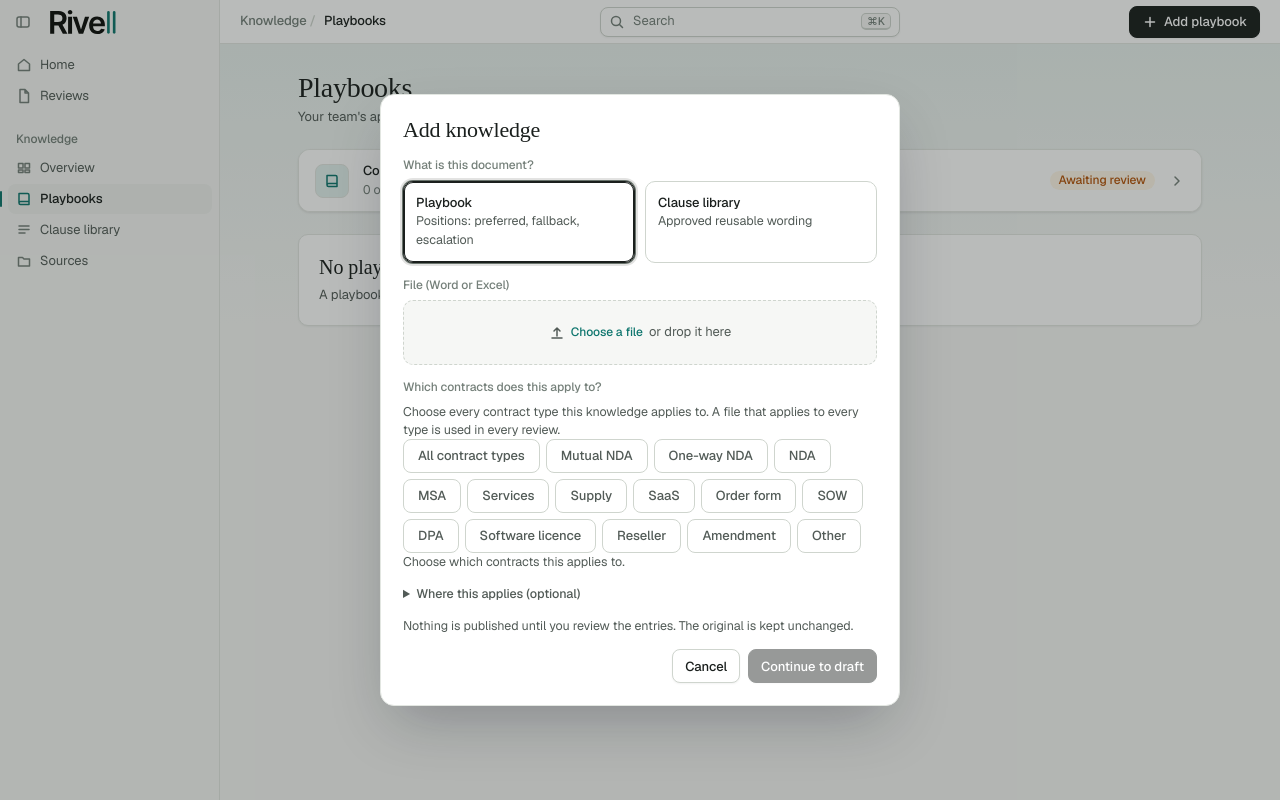
Scenario: Add knowledge › offers the type the page is about, and still lets the reviewer change it
The width and height of the screenshot is (1280, 800).
Check: the radio button labelled "Playbook Positions: preferred, fallback, escalation" is checked, box [403, 180, 635, 263]
Click the radio button labelled "Clause library Approved reusable wording".
click(761, 222)  # box [645, 180, 877, 263]
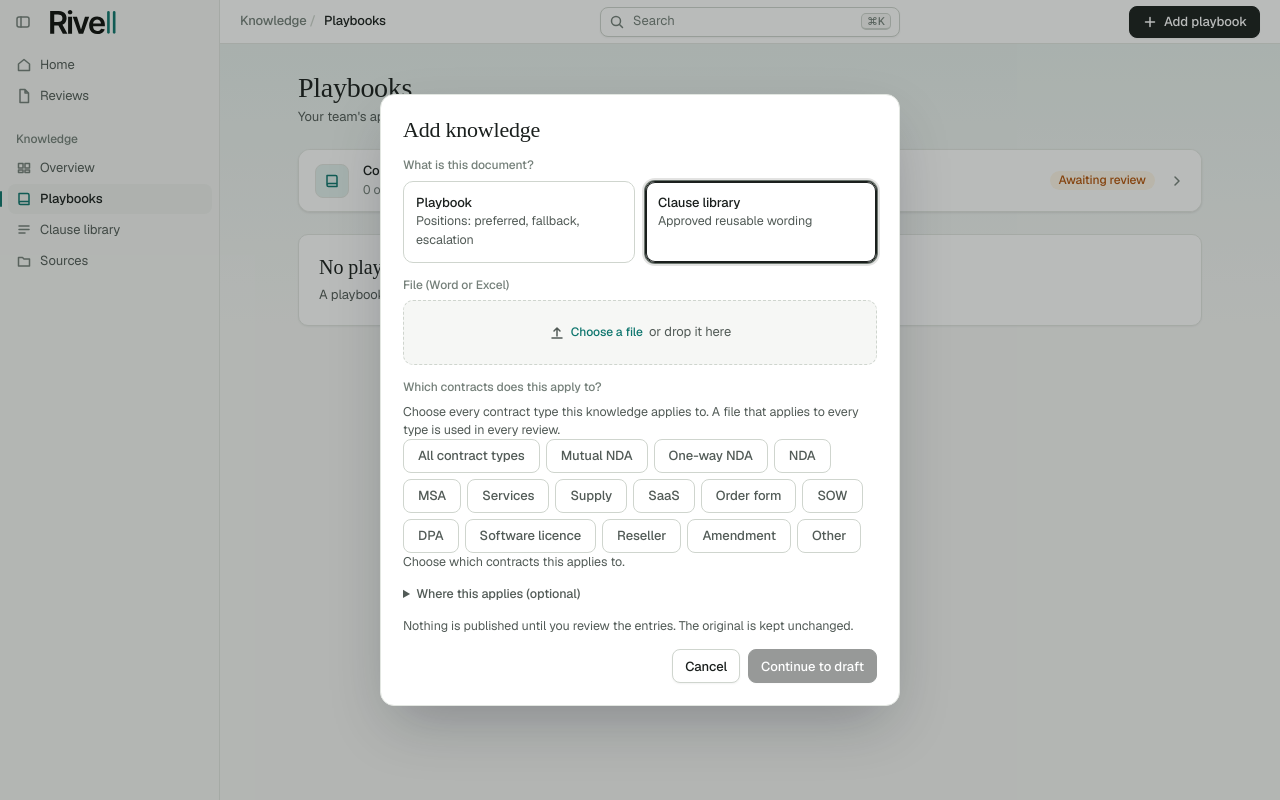
Check: the radio button labelled "Clause library Approved reusable wording" is checked, box [645, 180, 877, 263]
Check: the radio button labelled "Playbook Positions: preferred, fallback, escalation" is not checked, box [403, 180, 635, 263]
